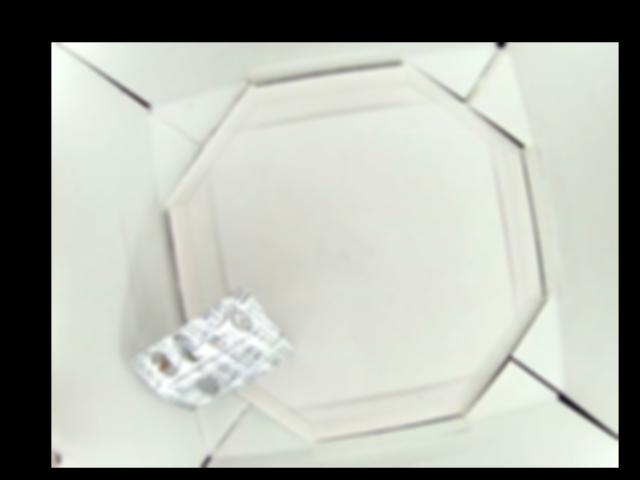Medicine: (134, 287, 291, 409)
